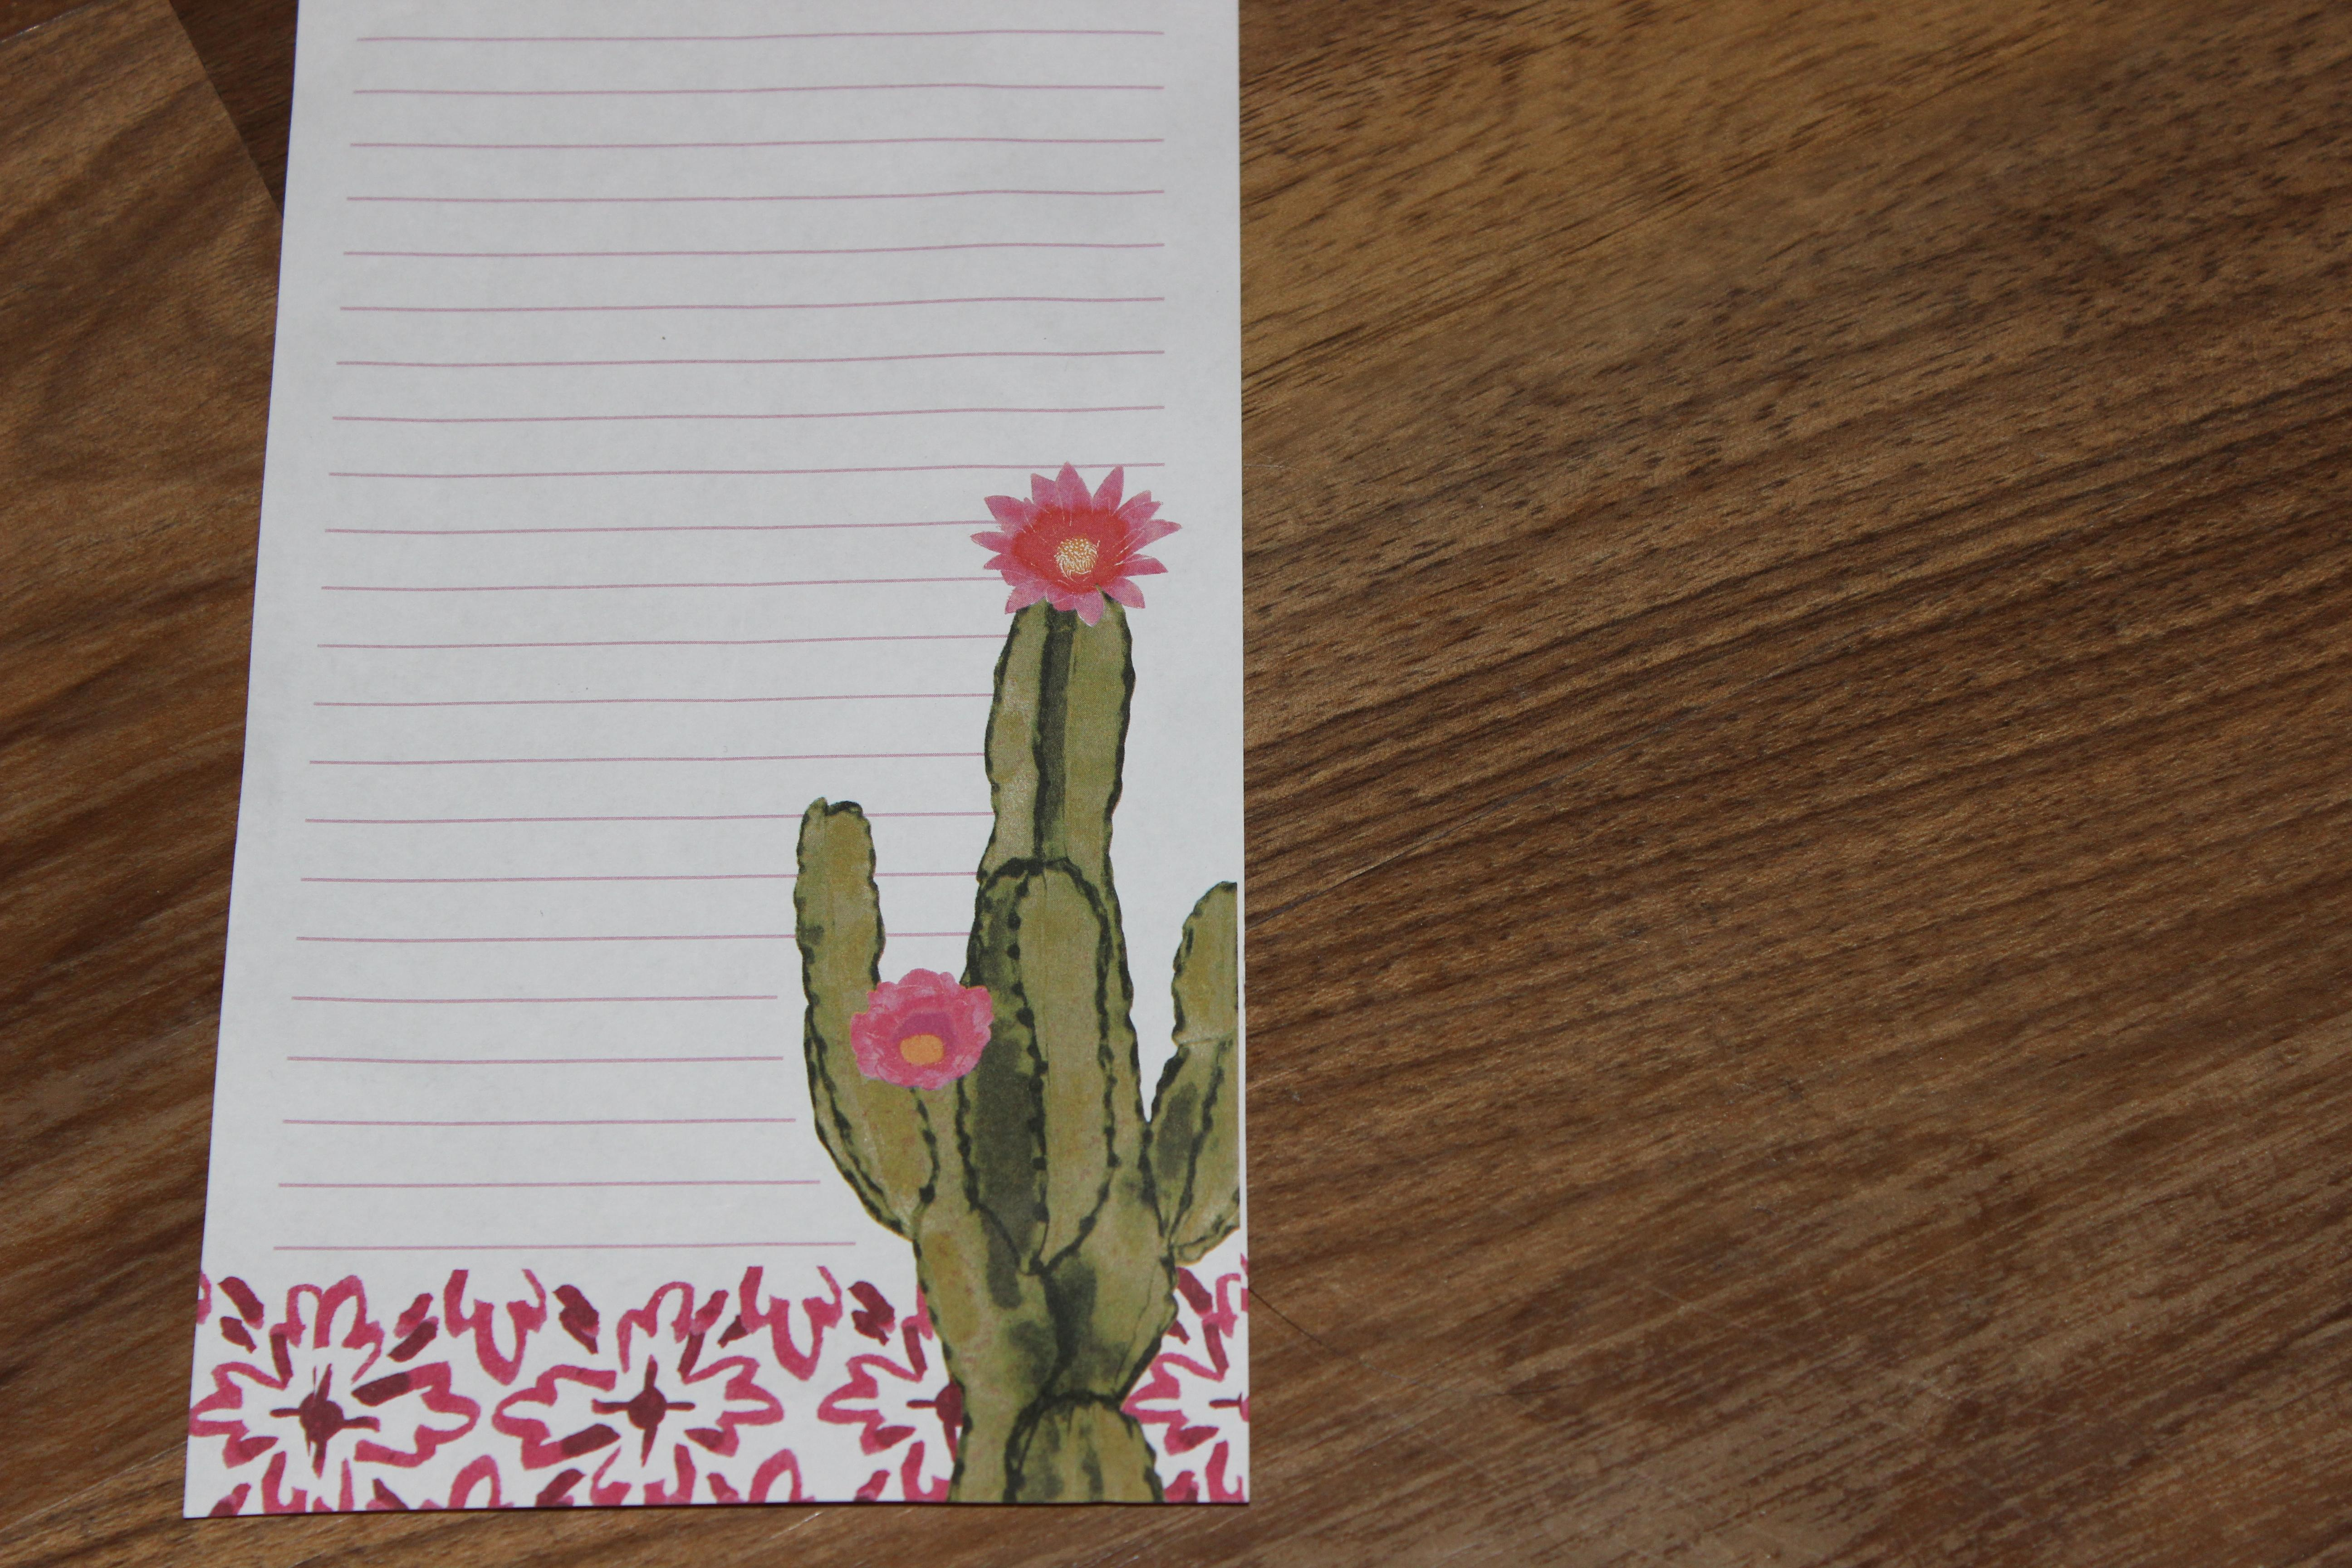cactusPaper: (163, 0, 1297, 1545)
